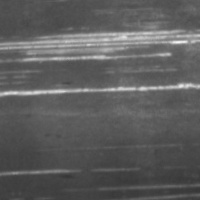scratches: (8, 25, 199, 67), (11, 74, 199, 101)
